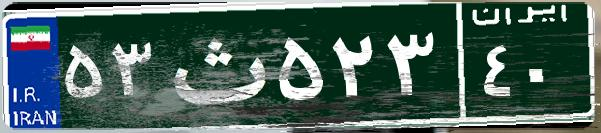0: (525, 38, 570, 115)
2: (330, 28, 385, 110)
3: (385, 28, 445, 110), (110, 28, 158, 105)
4: (475, 38, 525, 113)
5: (273, 28, 330, 110), (57, 26, 110, 107)
ث: (158, 15, 273, 115)
